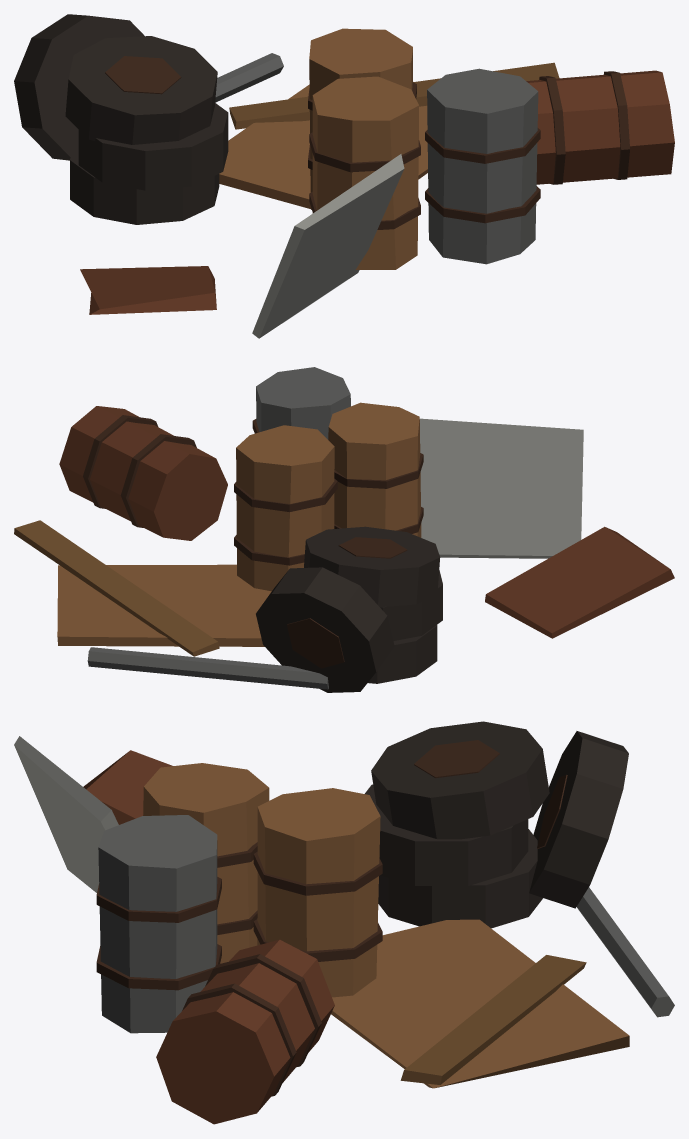
The model's file is junk.glb.
The picture shows the model from 3 angles, top to bottom: view 1: azimuth 30°, elevation 25°; view 2: azimuth 150°, elevation 25°; view 3: azimuth 270°, elevation 25°; orthographic projection. The views are drawn at different scales.
Visible parts, largest first — view 1: junk; view 2: junk; view 3: junk.
Part boxes in pixels (<box>): junk: <box>14,14,674,338</box>; junk: <box>14,367,674,692</box>; junk: <box>14,721,674,1124</box>.
Size of the model in its own units: 3.96 by 0.9532 by 3.2.
